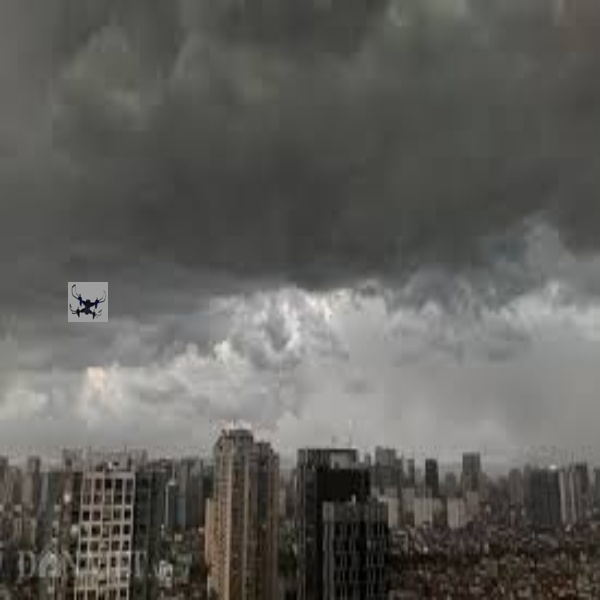drone: (65, 280, 110, 323)
